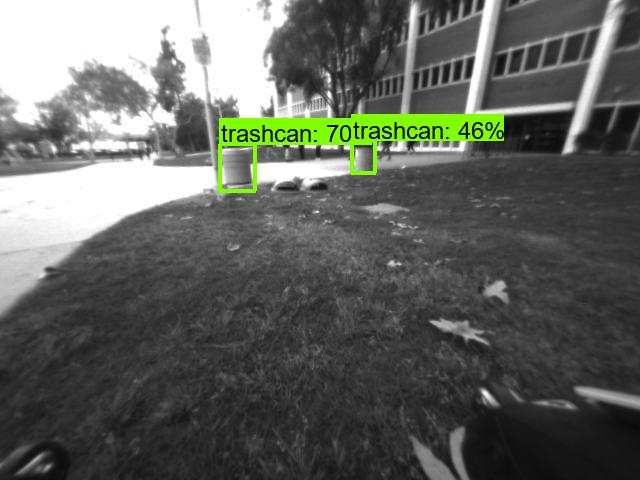trashcan: (217, 147, 255, 185), (355, 141, 374, 175)
